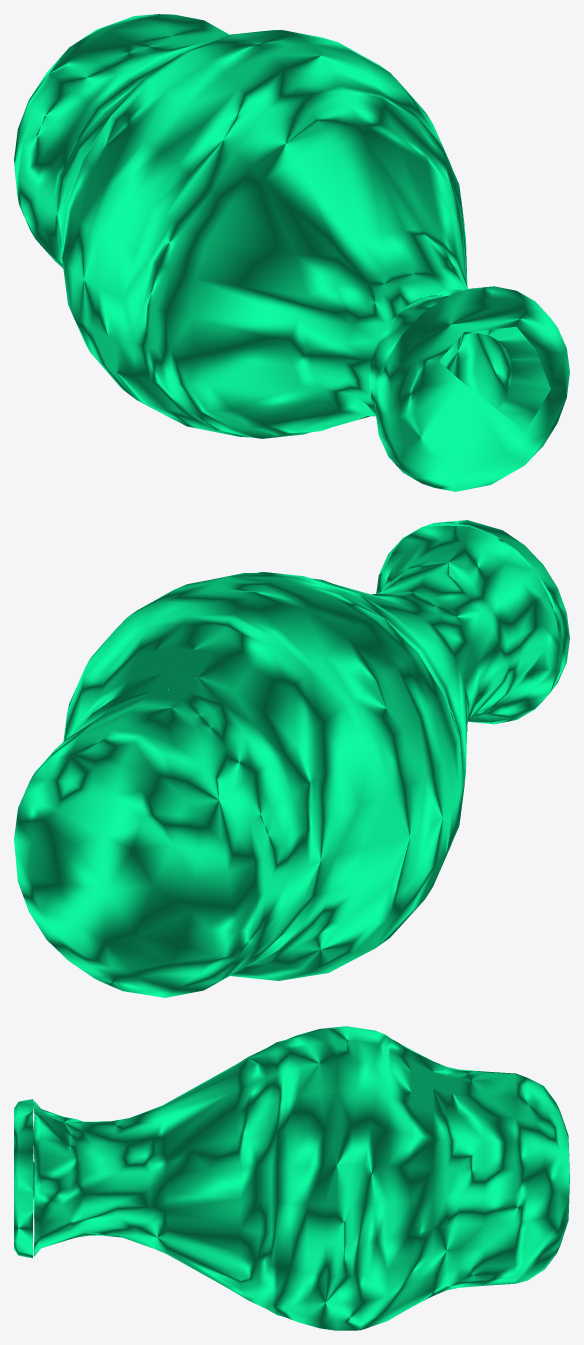
Rendered from model_align.obj.
The picture shows the model from 3 angles, top to bottom: view 1: azimuth 30°, elevation 25°; view 2: azimuth 150°, elevation 25°; view 3: azimuth 270°, elevation 25°; orthographic projection. The views are drawn at different scales.
Size of the model in its own units: 0.0947 by 0.0947 by 0.1723.
